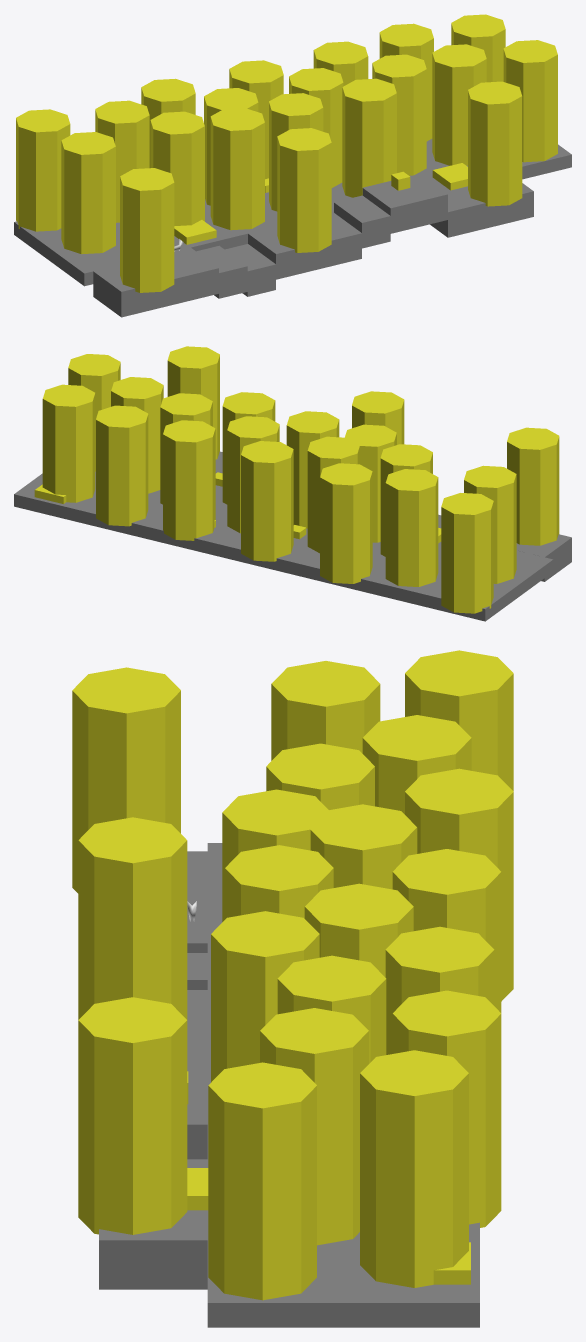
Rendered from map_forest.gltf.
The picture shows the model from 3 angles, top to bottom: view 1: azimuth 30°, elevation 25°; view 2: azimuth 150°, elevation 25°; view 3: azimuth 270°, elevation 25°; orthographic projection. The views are drawn at different scales.
Parts seen in each view (by area): view 1: Tree.008, Tree.016, Tree.009, Tree.003, Tree.007, Tree.014, Ground.007, Tree.002, Tree.019, Tree.018, Tree.005, Ground (+18 smaller); view 2: Ground.007, Tree.002, Tree.004, Tree.010, Tree.017, Tree.001, Tree.013, Tree.020, Tree.008, Tree.003, Tree.016, Tree.011 (+10 smaller); view 3: Tree.016, Tree.019, Tree.020, Tree.009, Tree.008, Ground.007, Tree.018, Tree.017, Tree.014, Tree.004, Tree.002, Tree.003 (+15 smaller).
Part boxes in pixels (x1,y1,x2,y2): Tree.008: [120, 168, 174, 292]; Tree.016: [468, 81, 522, 206]; Tree.009: [277, 128, 331, 252]; Tree.003: [61, 132, 115, 254]; Tree.007: [210, 108, 264, 230]; Tree.014: [342, 78, 396, 197]; Ground.007: [14, 139, 571, 286]; Tree.002: [16, 109, 70, 231]; Tree.019: [503, 40, 557, 162]; Tree.018: [432, 44, 486, 165]; Tree.005: [150, 111, 204, 225]; Ground: [93, 247, 218, 317]; Ground.007: [14, 471, 553, 621]; Tree.002: [441, 493, 493, 613]; Tree.004: [320, 463, 372, 583]; Tree.010: [241, 441, 293, 561]; Tree.017: [96, 405, 148, 526]; Tree.001: [385, 469, 438, 586]; Tree.013: [163, 420, 215, 540]; Tree.020: [42, 384, 95, 502]; Tree.008: [507, 427, 559, 545]; Tree.003: [464, 465, 516, 583]; Tree.016: [167, 346, 219, 459]; Tree.011: [286, 411, 339, 528]; Tree.016: [78, 997, 187, 1234]; Tree.019: [208, 1062, 316, 1300]; Tree.020: [360, 1050, 468, 1287]; Tree.009: [78, 817, 187, 1019]; Tree.008: [72, 667, 180, 893]; Ground.007: [207, 843, 479, 1327]; Tree.018: [260, 1008, 368, 1245]; Tree.017: [392, 990, 501, 1227]; Tree.014: [211, 911, 319, 1082]; Tree.004: [405, 768, 513, 1001]; Tree.002: [405, 650, 513, 790]; Tree.003: [271, 661, 380, 760].
Size of the model in its own units: 40.05 by 10.58 by 16.22.
